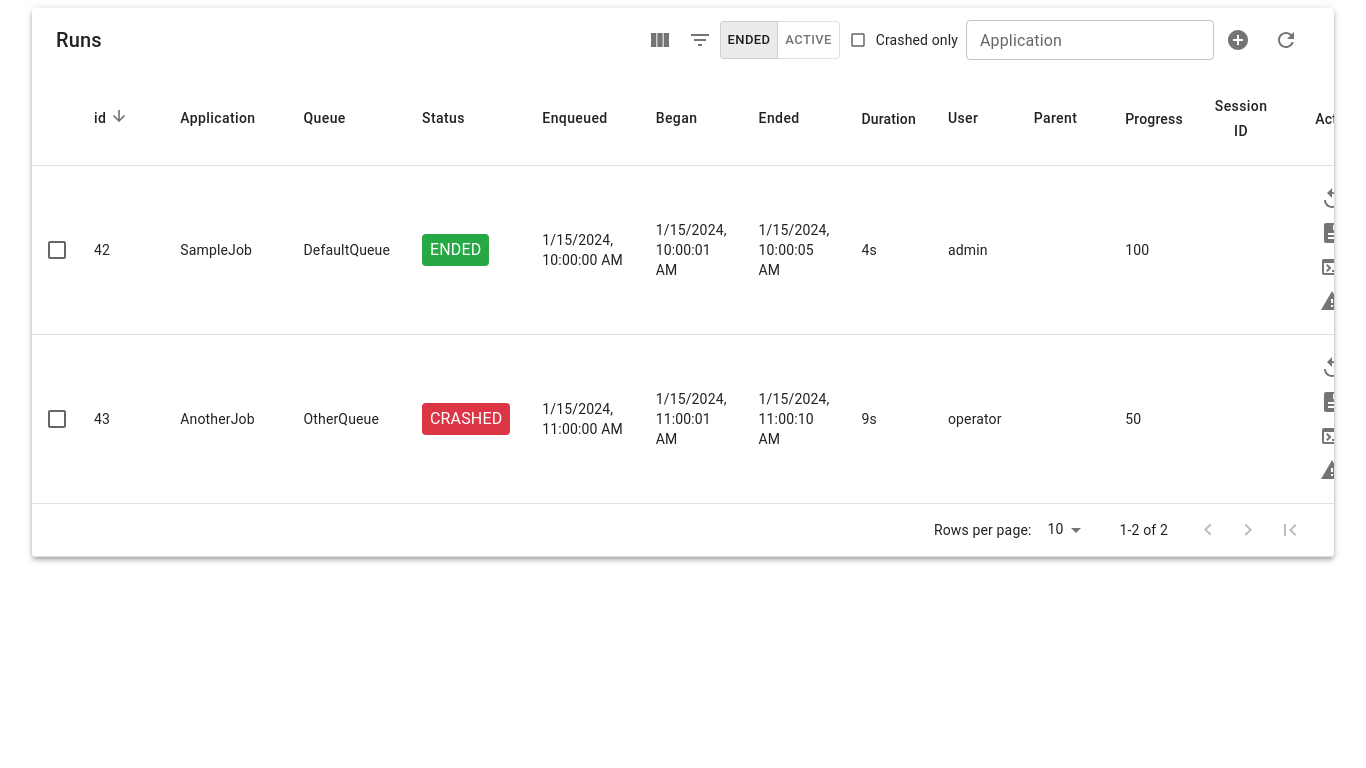
Test case: RunsPage › opens launch form dialog when clicking new launch button
The width and height of the screenshot is (1366, 768).
Check: the text "SampleJob" is shown, box [180,242,252,258]
What coordinates should you click on to do the following:
click the button named "New launch form"
I would click on:
 (1238, 40)
Its box is [1214,16,1262,64].
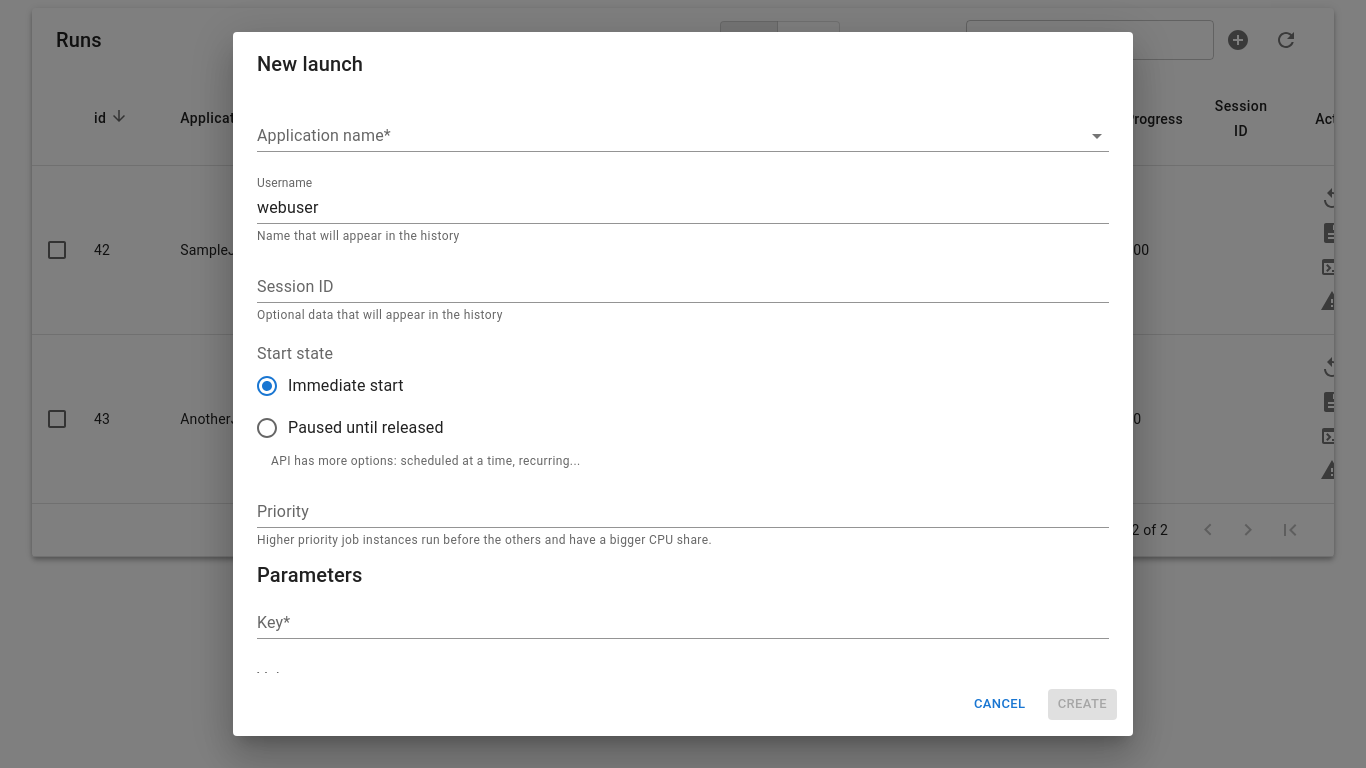
Check: the dialog is shown
